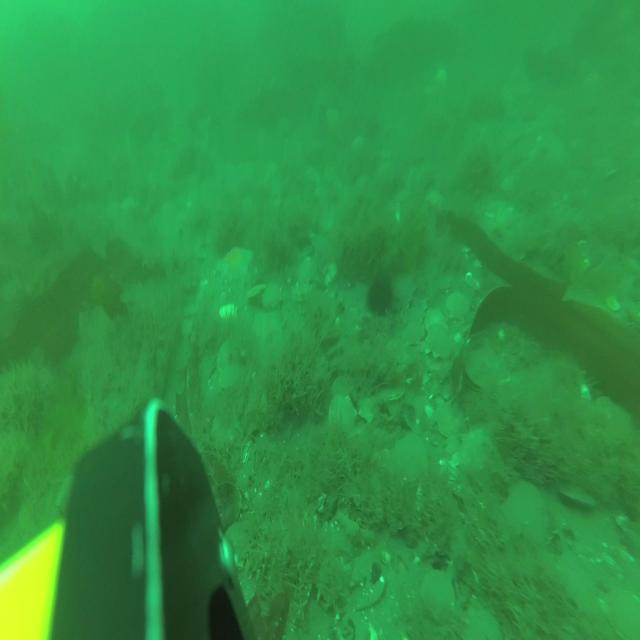echinus: (364, 271, 395, 320)
scallop: (502, 473, 550, 555), (387, 432, 432, 486), (421, 569, 457, 628), (456, 427, 496, 479), (604, 587, 640, 640), (557, 473, 599, 515), (464, 349, 502, 395), (326, 392, 358, 438), (211, 407, 242, 448), (425, 322, 456, 362), (431, 401, 463, 439), (444, 289, 472, 320), (358, 388, 382, 424), (216, 338, 240, 374), (395, 274, 417, 306), (261, 279, 283, 309), (423, 307, 448, 333), (379, 384, 408, 406), (290, 281, 315, 306), (401, 304, 425, 330), (218, 365, 242, 391), (401, 323, 425, 347), (246, 283, 266, 301), (178, 318, 194, 340), (182, 302, 200, 318)
starfish: (219, 242, 255, 283)
